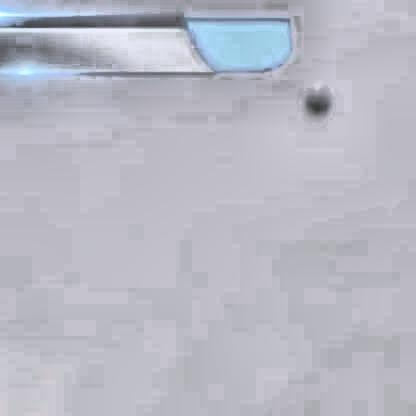golfball: (301, 82, 326, 112)
